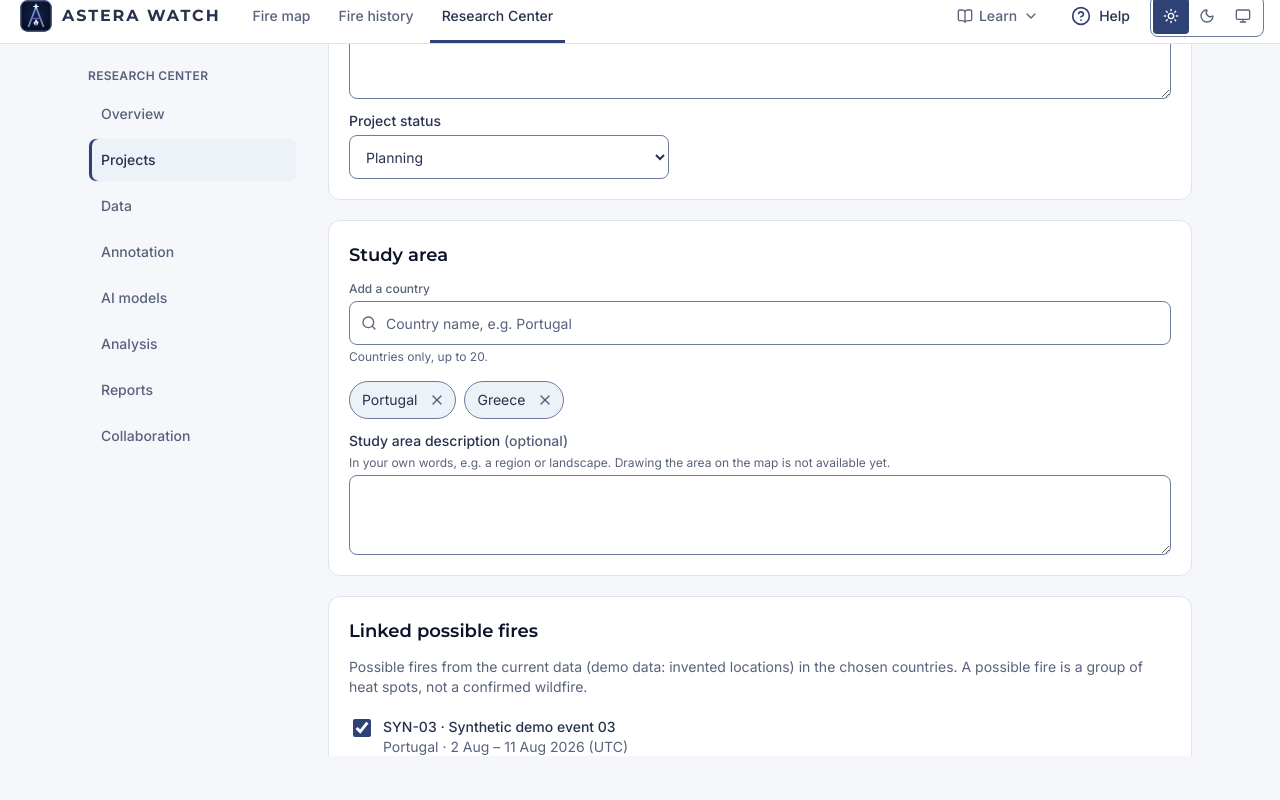
Test: research project pages › edit: changes are saved; links outside the chosen countries are dropped with a notice
(page scrolled)
Click the button named "Remove Greece".
click(545, 400)  # box [529,384,561,416]
(page scrolled)
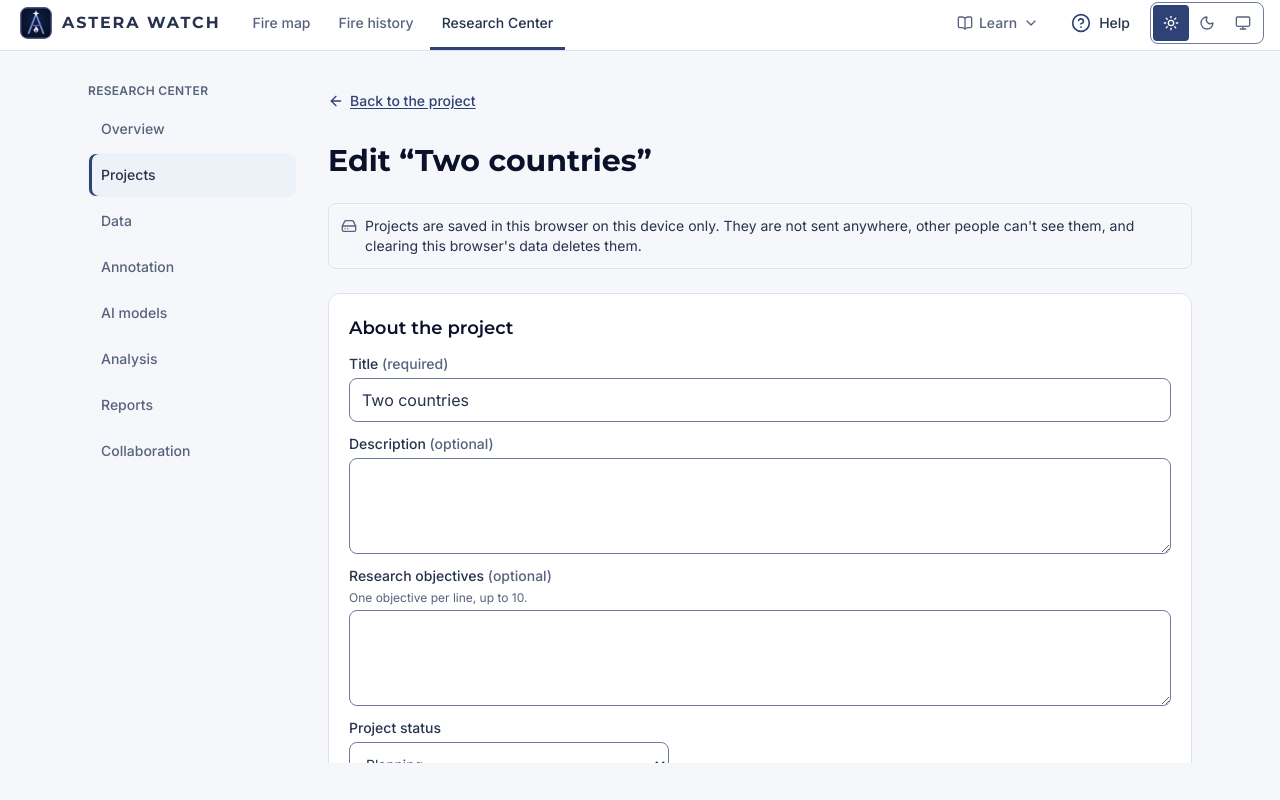
Replace the text in the field labelled "Title (required)" with "Portugal only" at [760, 400], box [349,378,1171,422]
(page scrolled)
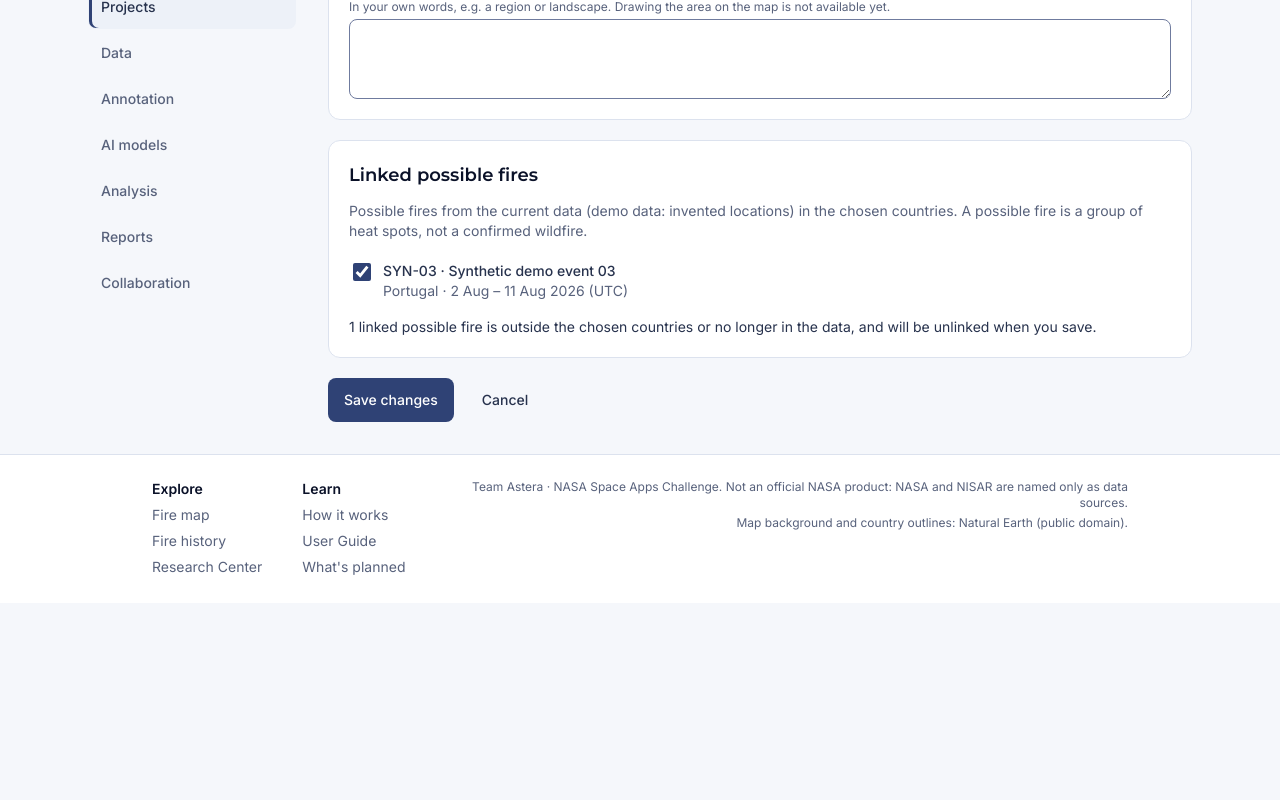
Click the button "Save changes".
click(391, 400)  # box [328,378,454,422]
(page scrolled)
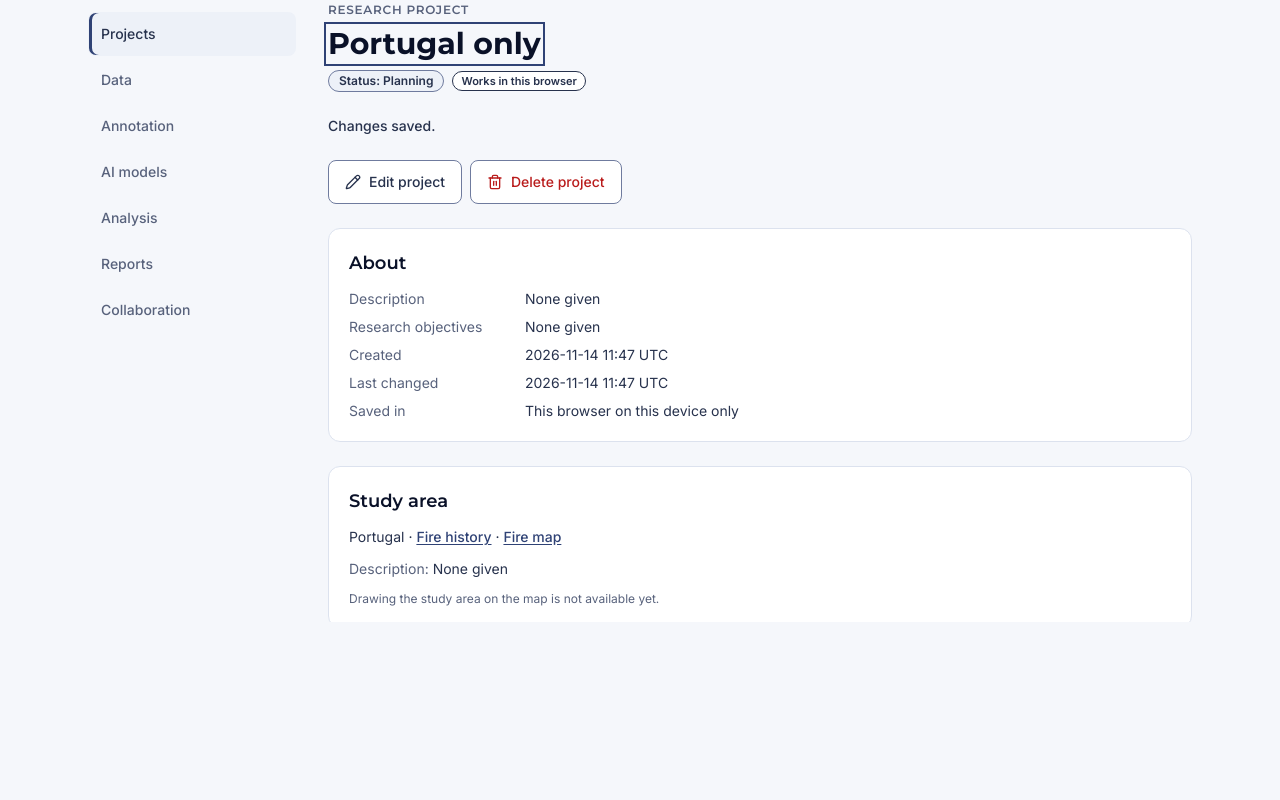
Now the heading "Portugal only" is shown, box [328,26,541,62]
